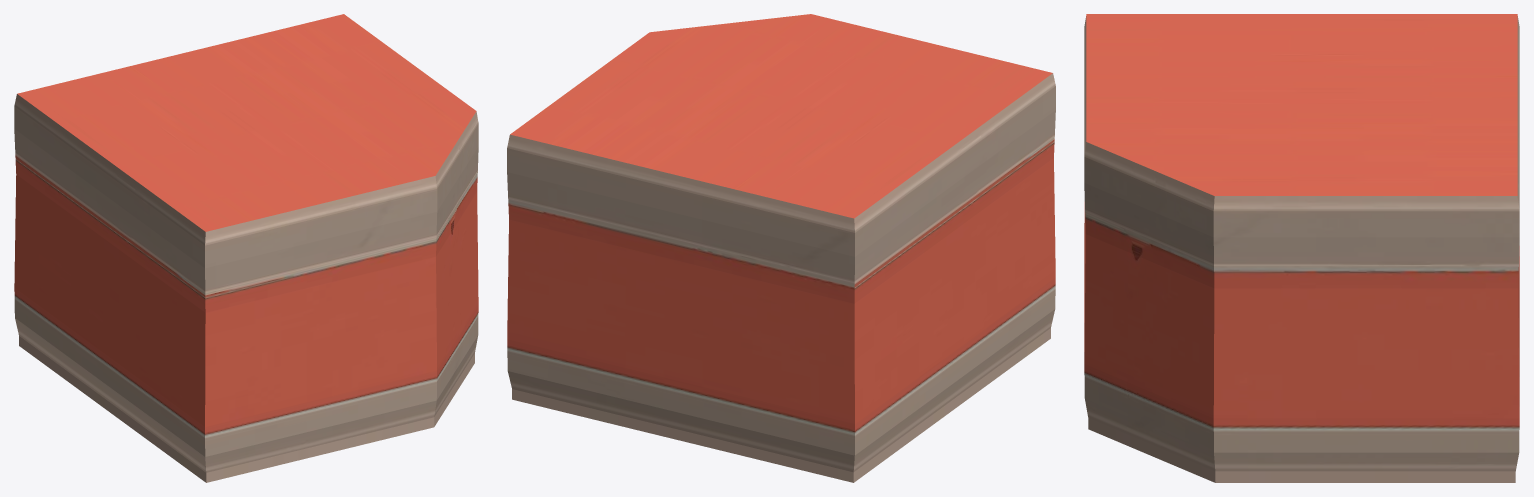
The model's file is corner_rect90_coral.glb.
The picture shows the model from 3 angles, left to right: view 1: azimuth 30°, elevation 25°; view 2: azimuth 150°, elevation 25°; view 3: azimuth 270°, elevation 25°; orthographic projection. The views are drawn at different scales.
Parts seen in each view (by area): view 1: corner_rect90_coral; view 2: corner_rect90_coral; view 3: corner_rect90_coral.
Part boxes in pixels (x1,y1,x2,y2): corner_rect90_coral: [14, 14, 478, 482]; corner_rect90_coral: [507, 14, 1055, 482]; corner_rect90_coral: [1084, 14, 1519, 482].
Bounding box in the file's own units: 0.7399 × 0.5391 × 0.7399.
Materials: 1 (1 with a texture image).
